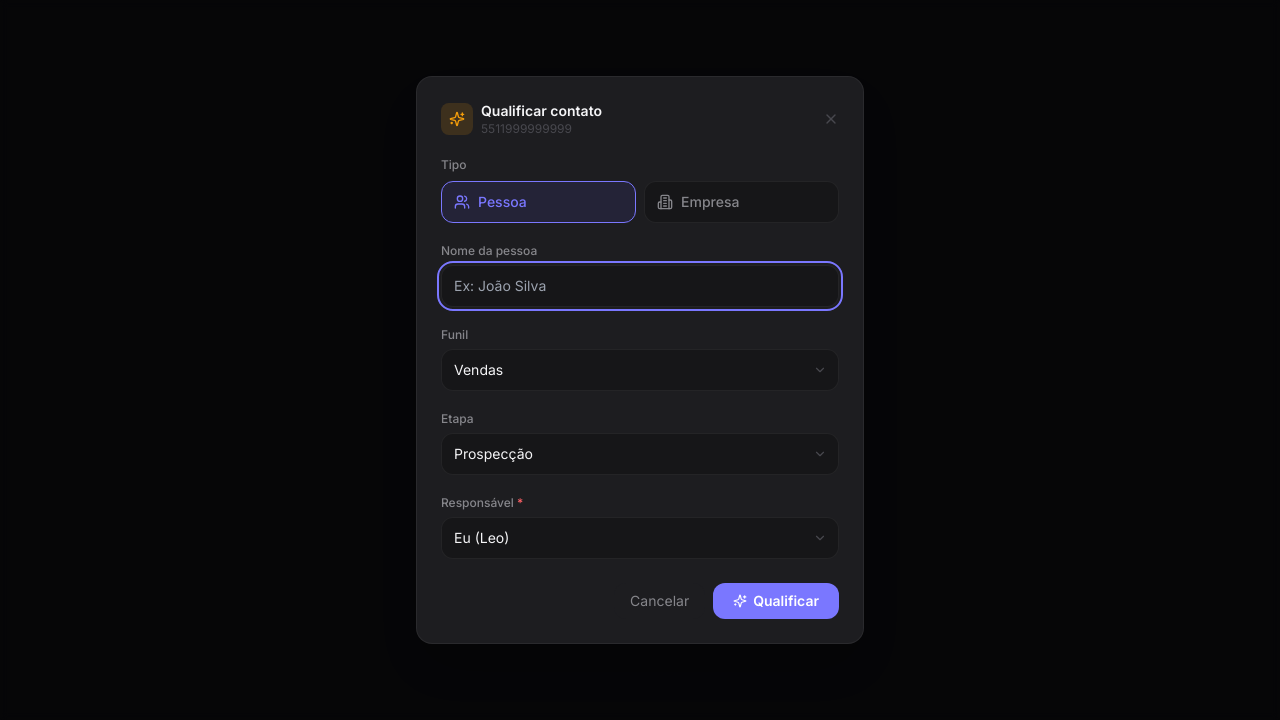
Test: <QualifyModal /> › bloqueia submit sem nome e exibe mensagem de erro
The width and height of the screenshot is (1280, 720).
Expected: the dropdown showing "Vendas" below "Funil" is shown, top-left (441, 349), bottom-right (839, 391)
Click the button "Qualificar".
click(776, 601)  # box top-left (713, 583), bottom-right (839, 619)
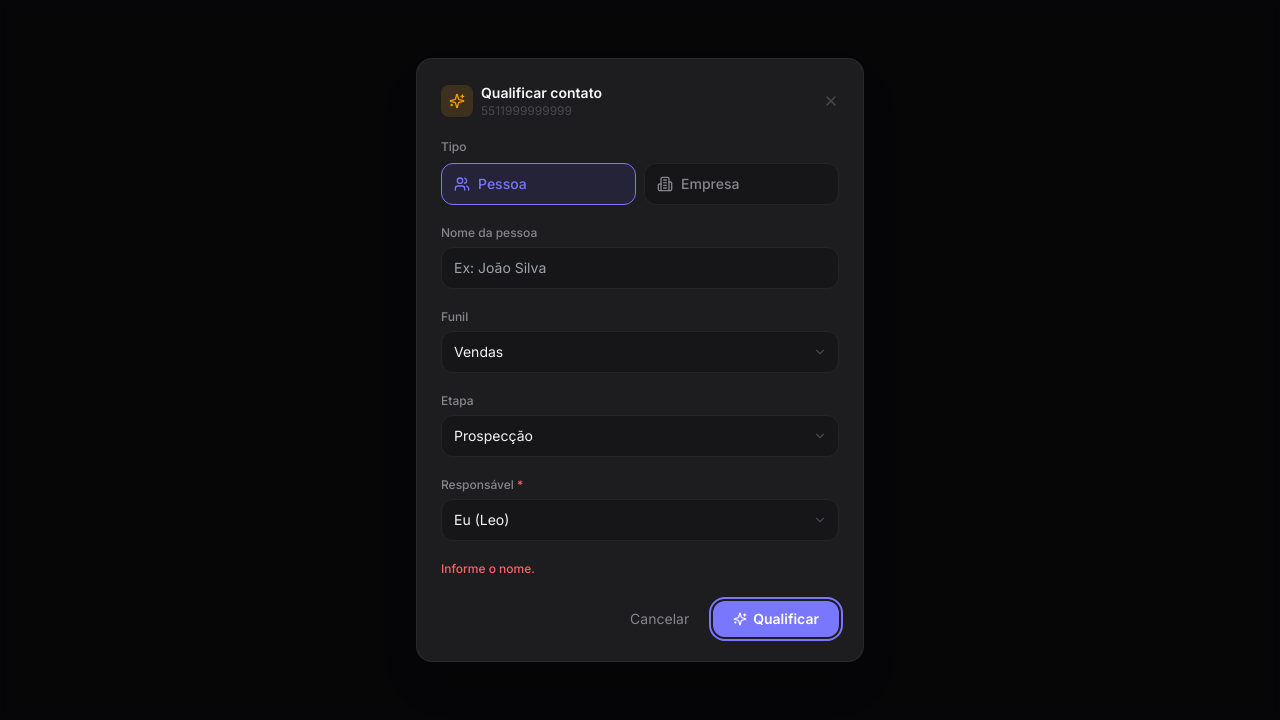
Now the text "Informe o nome." is shown, box top-left (441, 561), bottom-right (535, 576)
